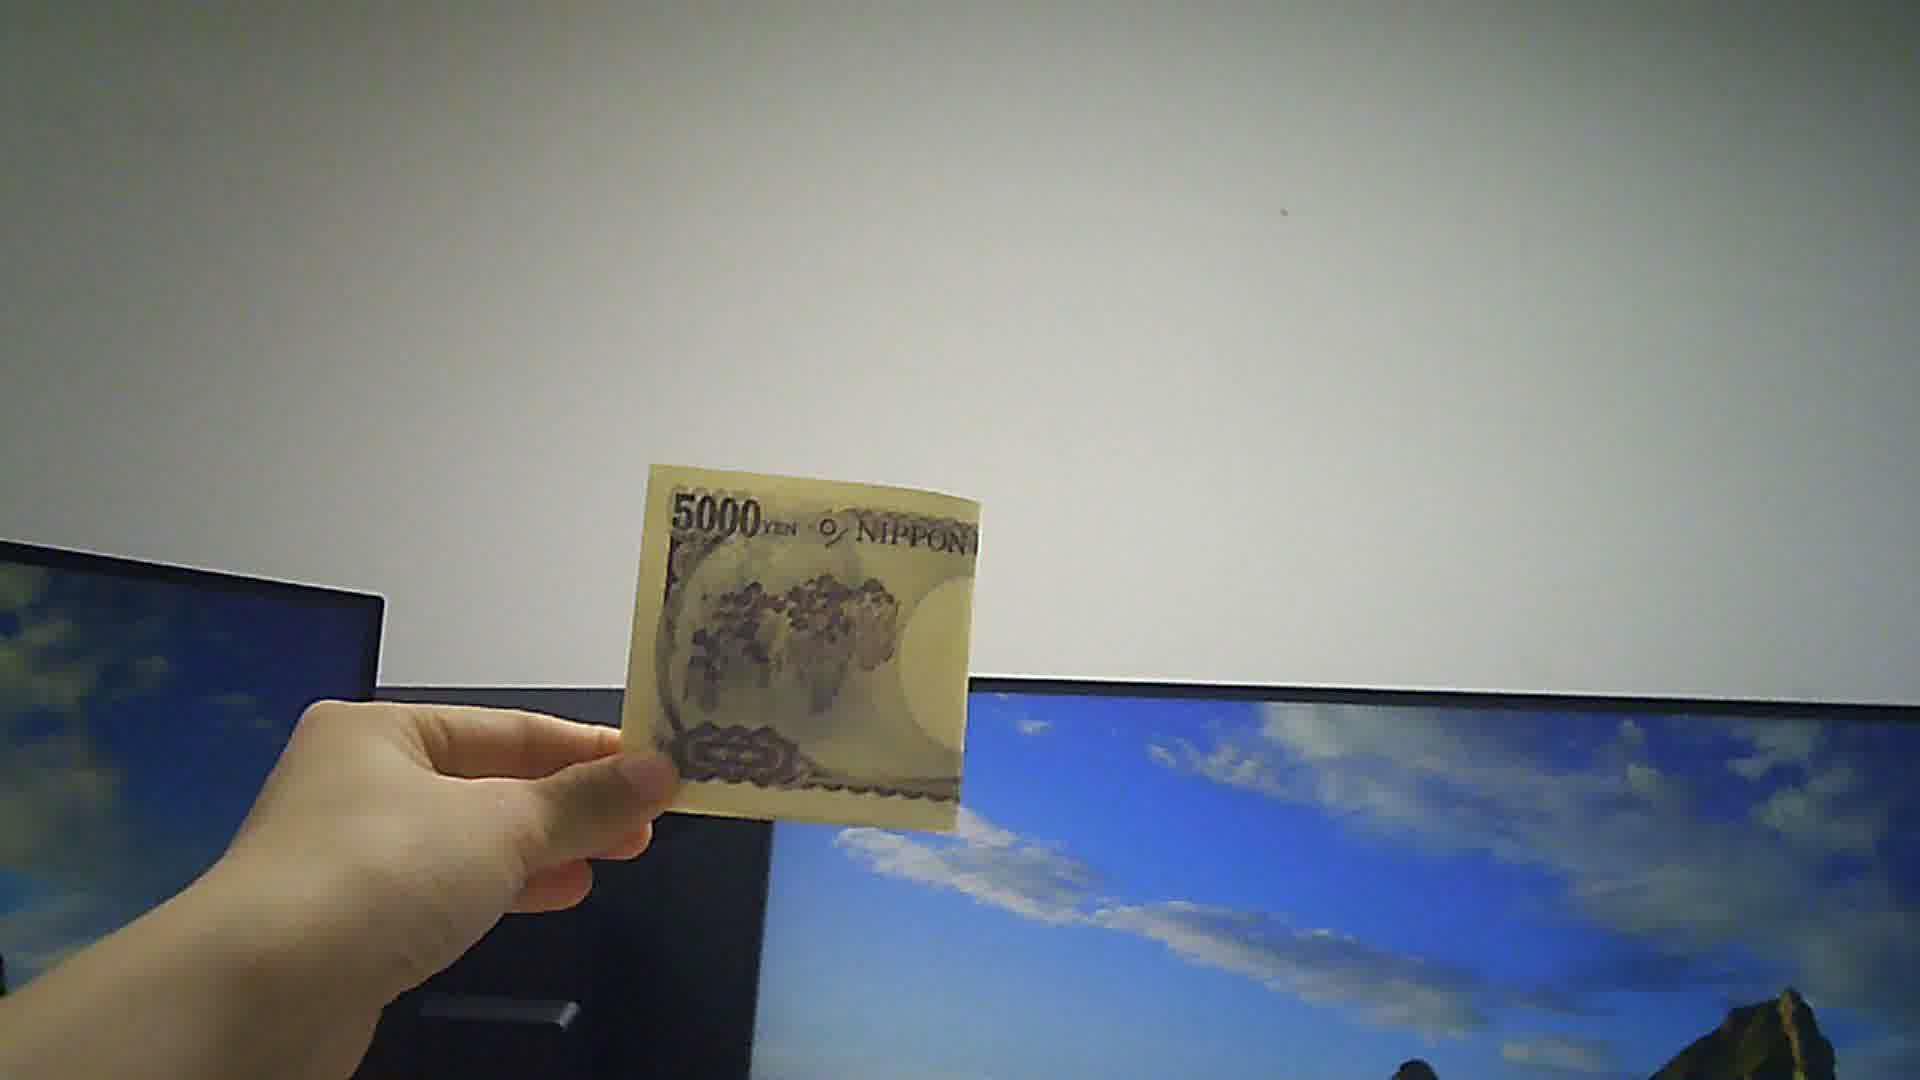5,000 Yen: (618, 439, 1000, 856)
